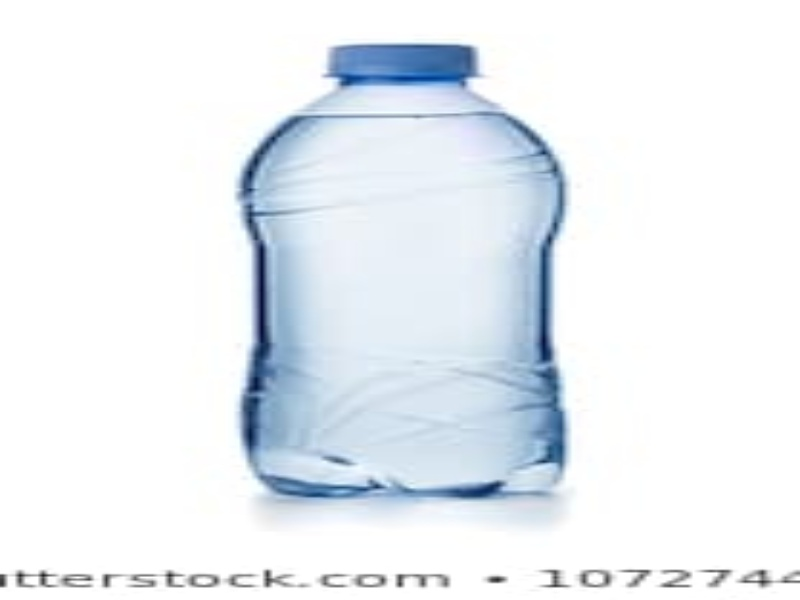bottle-cap: (326, 43, 487, 82)
plastic-bottle: (231, 38, 575, 501)
